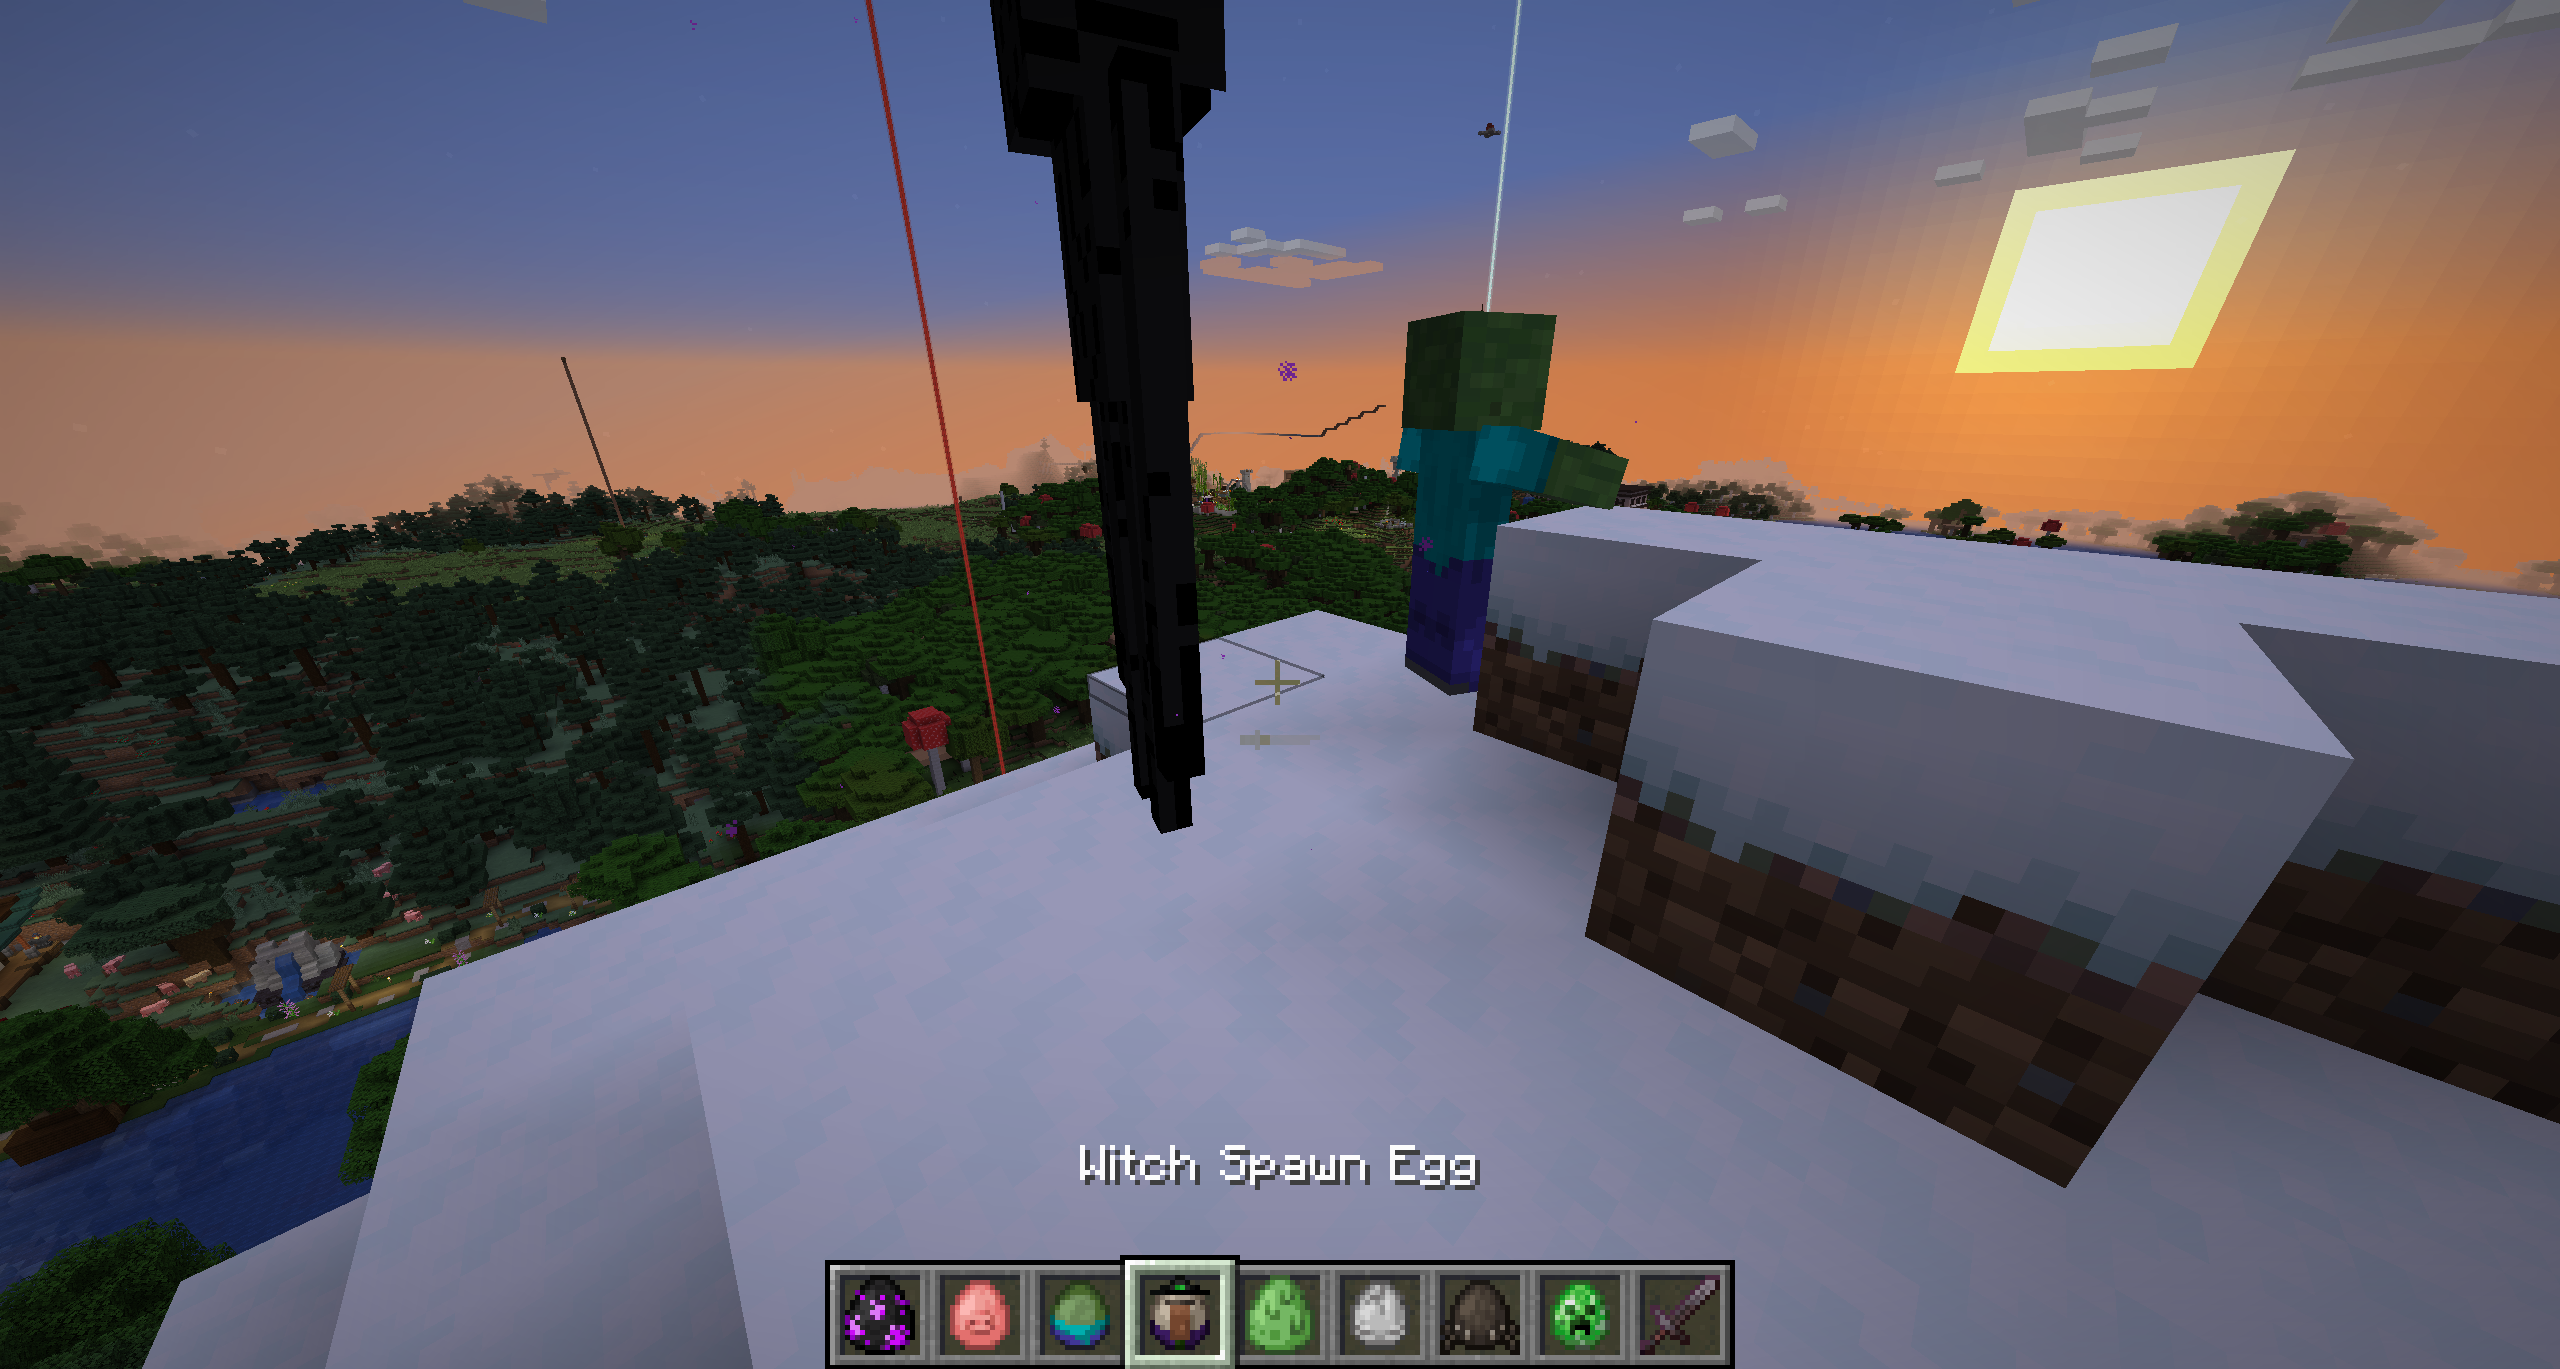endermens: (968, 2, 1241, 836)
zombies: (1388, 311, 1624, 704)
